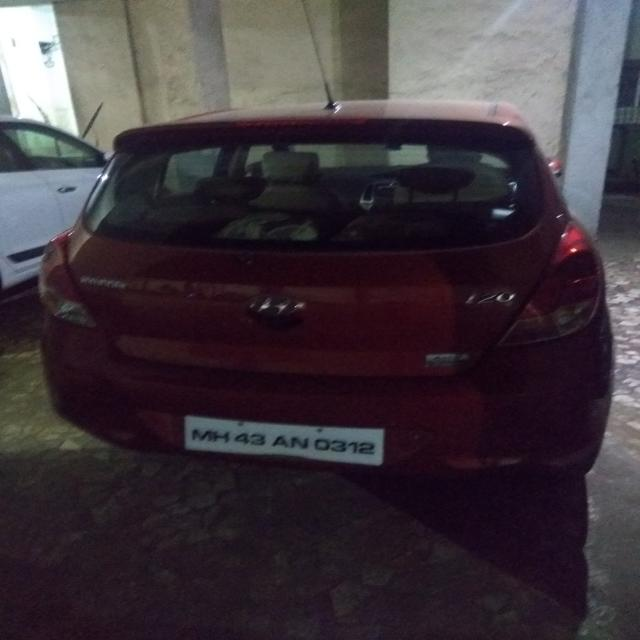Number-Plate: (190, 416, 378, 458)
